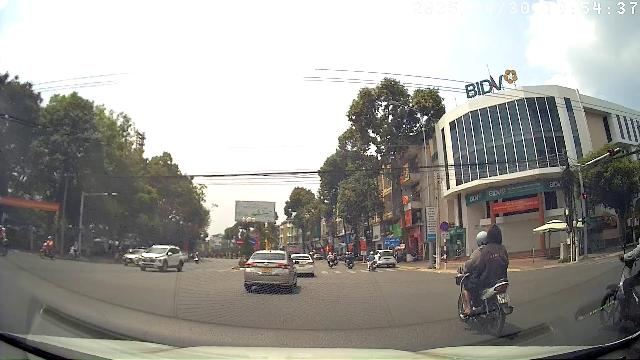130-cam-dung-va-do-xe: (440, 221, 449, 231)
